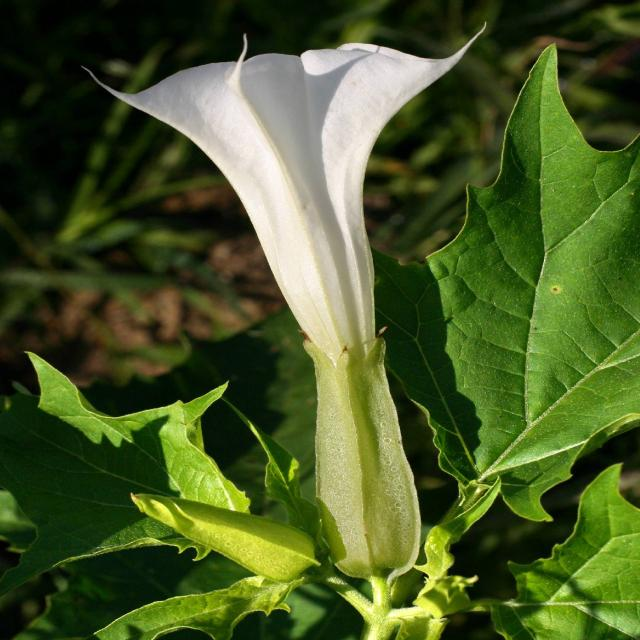Poisonous-Datura_Stramonium: (92, 27, 576, 619), (8, 364, 424, 640)
